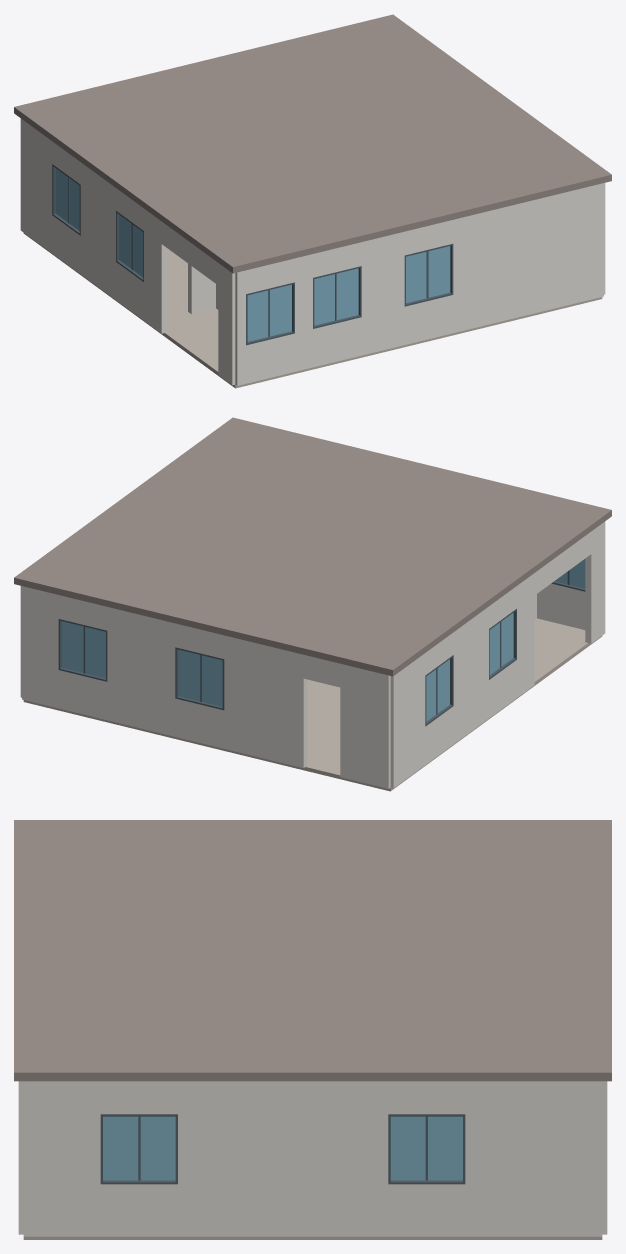
Rendered from adistam-bbbcc41d7b.glb.
3 renders of one model, top to bottom at view 1: azimuth 30°, elevation 25°; view 2: azimuth 150°, elevation 25°; view 3: azimuth 270°, elevation 25°, orthographic. The views are drawn at different scales.
Parts seen in each view (by area): view 1: roof_0, wall_0_16, wall_0_15, floor_slab_0, wall_0_18, wall_0_17, wall_0_19, window_0_0_pane, window_0_2_pane, window_0_1_pane, wall_0_14, wall_0_20 (+15 smaller); view 2: roof_0, wall_0_1, wall_0_2, floor_slab_0, wall_0_0, wall_0_3, wall_0_18, wall_0_17, wall_0_20, window_0_6_pane, window_0_8_pane, wall_0_19 (+13 smaller); view 3: roof_0, wall_0_30, wall_0_29, wall_0_31, window_0_3_pane, window_0_7_pane, wall_0_44, wall_0_58, wall_0_43, wall_0_57, floor_slab_0, wall_0_3 (+1 smaller).
Part boxes in pixels (x1,y1,x2,y2): roof_0: (14,14,611,273); wall_0_16: (453,183,603,332); wall_0_15: (361,231,404,355); floor_slab_0: (23,233,602,388); wall_0_18: (80,162,115,299); wall_0_17: (20,118,52,253); wall_0_19: (144,209,167,333); window_0_0_pane: (247,284,291,341); window_0_2_pane: (406,246,450,303); window_0_1_pane: (314,268,358,325); wall_0_14: (295,254,312,371); wall_0_20: (218,263,235,385); roof_0: (14,417,611,676); wall_0_1: (224,635,307,767); wall_0_2: (107,607,175,736); floor_slab_0: (23,618,602,791); wall_0_0: (340,663,390,788); wall_0_3: (22,586,58,708); wall_0_18: (453,606,488,743); wall_0_17: (390,653,425,788); wall_0_20: (585,521,605,643); window_0_6_pane: (178,649,222,706); window_0_8_pane: (61,621,105,678); wall_0_19: (517,573,534,697); roof_0: (14,820,611,1081); wall_0_30: (178,1081,388,1236); wall_0_29: (465,1081,602,1236); wall_0_31: (23,1081,100,1236); window_0_3_pane: (103,1116,175,1180); window_0_7_pane: (390,1116,462,1180); wall_0_44: (100,1184,177,1236); wall_0_58: (388,1184,465,1236); wall_0_43: (100,1081,177,1114); wall_0_57: (388,1081,465,1114); floor_slab_0: (23,1236,602,1239); wall_0_3: (602,1081,607,1234).
Bounding box in the file's own units: 31 × 9.8 × 31.
